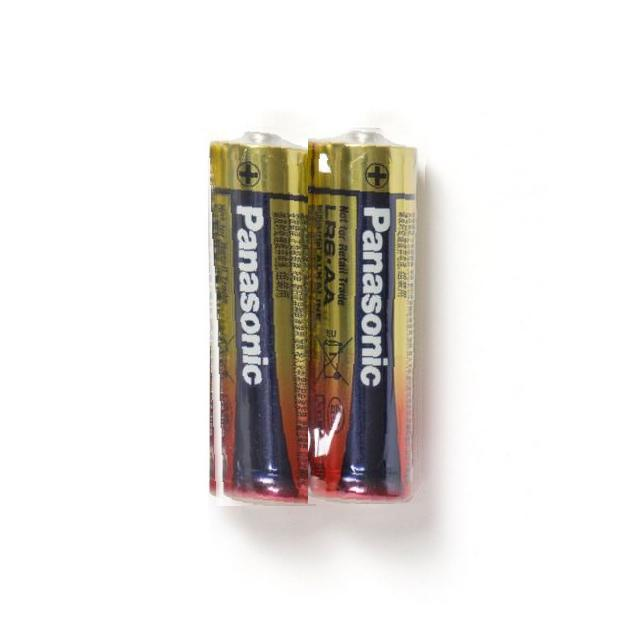battery: (308, 124, 426, 504), (202, 116, 316, 506)
